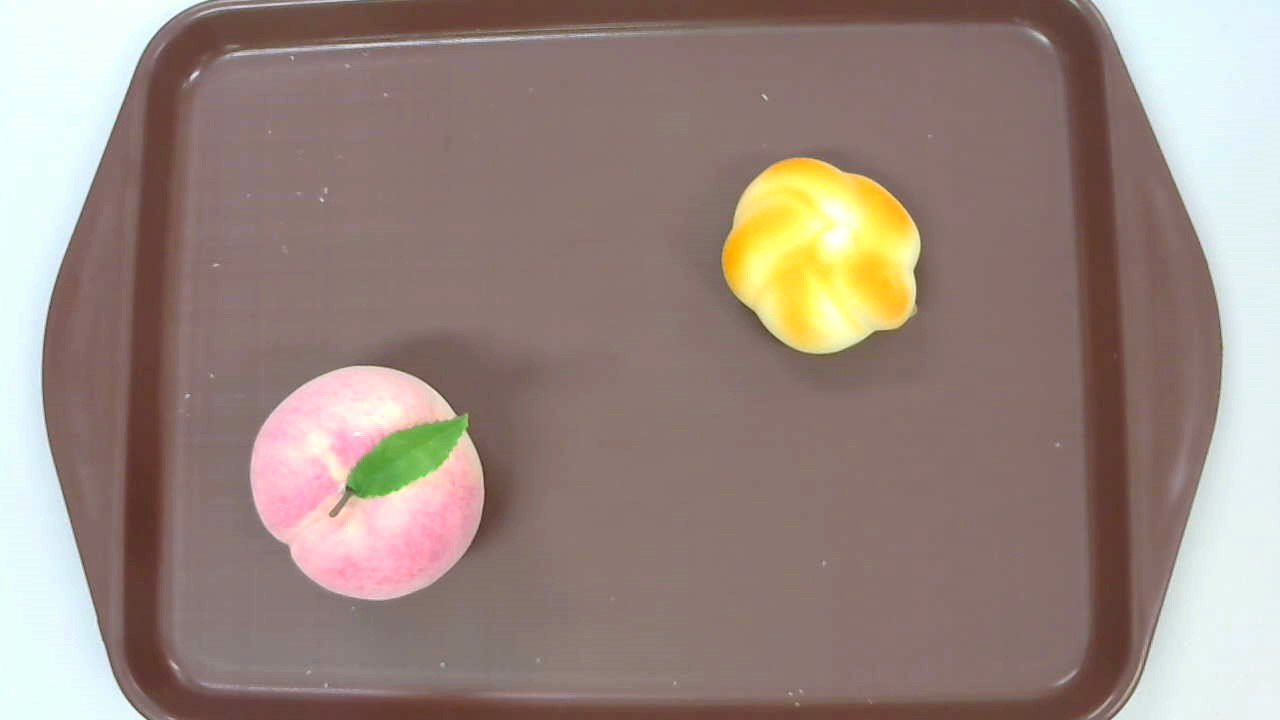peach: (249, 366, 485, 600)
twist bread: (721, 158, 921, 356)
